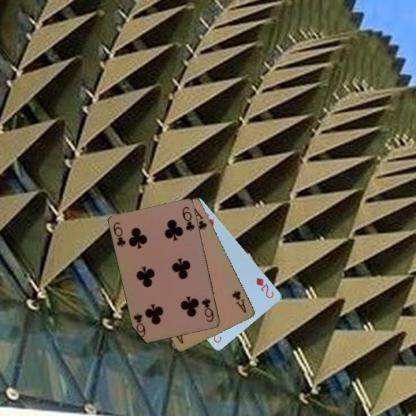2d: (253, 275, 275, 299)
6c: (111, 219, 127, 248), (199, 296, 215, 323)
Ac: (229, 288, 248, 314)
